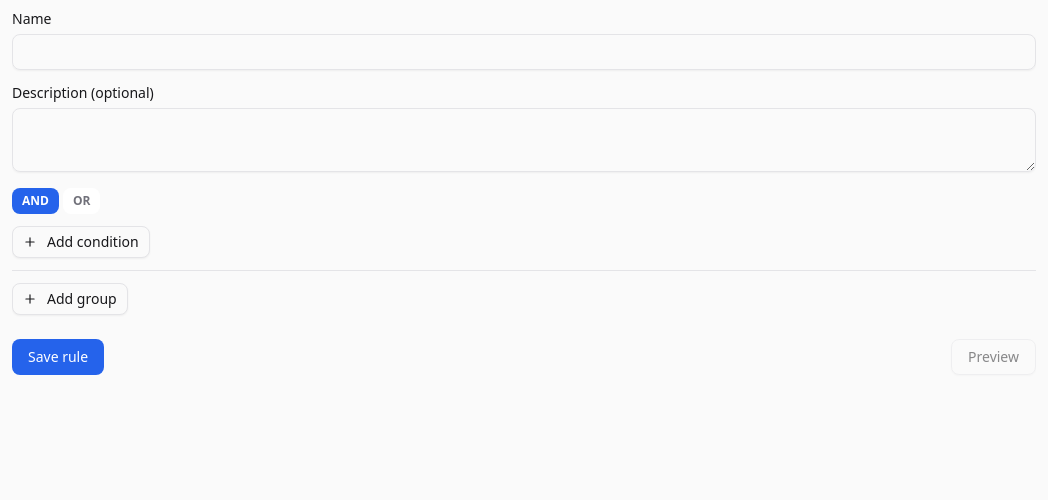
RuleEditor -- registry-driven ops › shows only the selected STRING field's own ops (including notNull)
Click the button with test id "rule-add-condition".
click(81, 242)  # box [12,226,150,258]
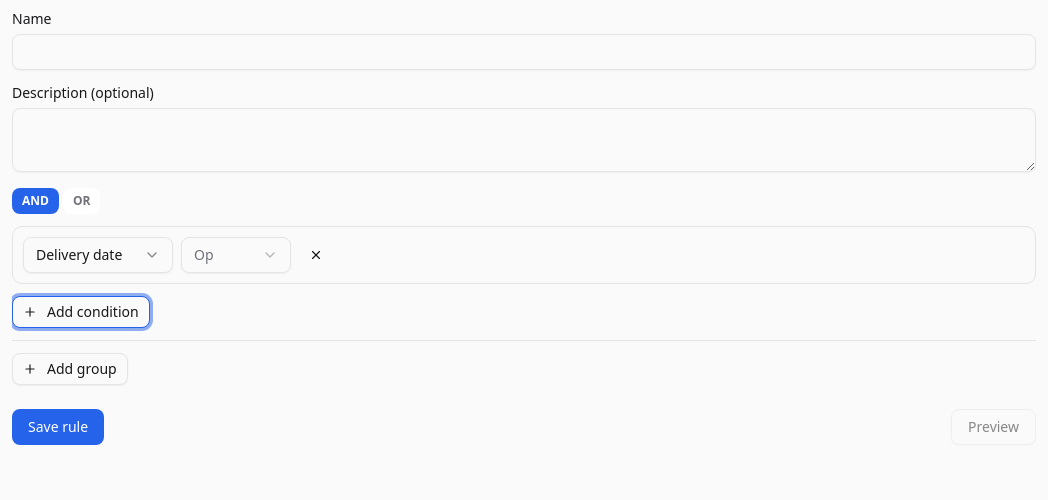
Click the dropdown with test id "rule-condition-0-field".
click(98, 255)  # box [23,237,173,273]
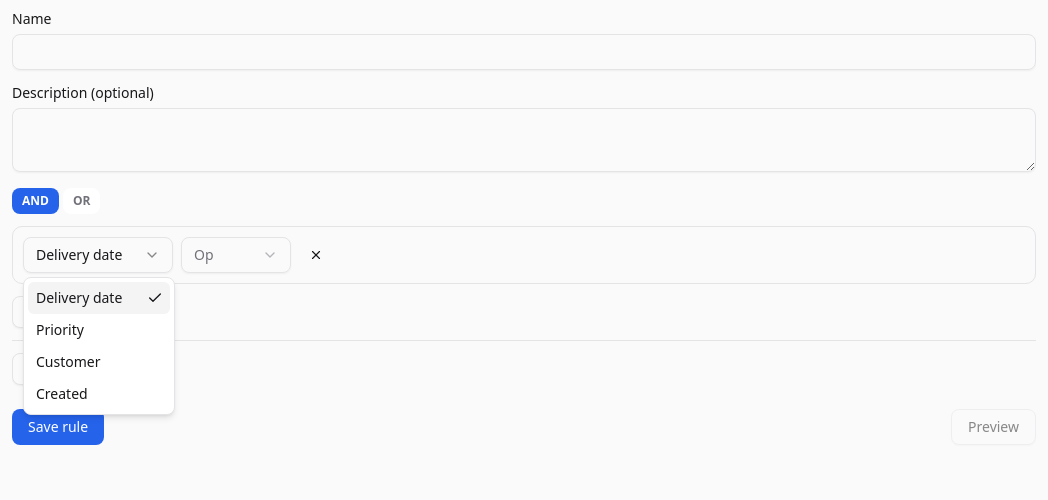
Click the option "Customer".
click(68, 362)  # box [36,352,100,371]
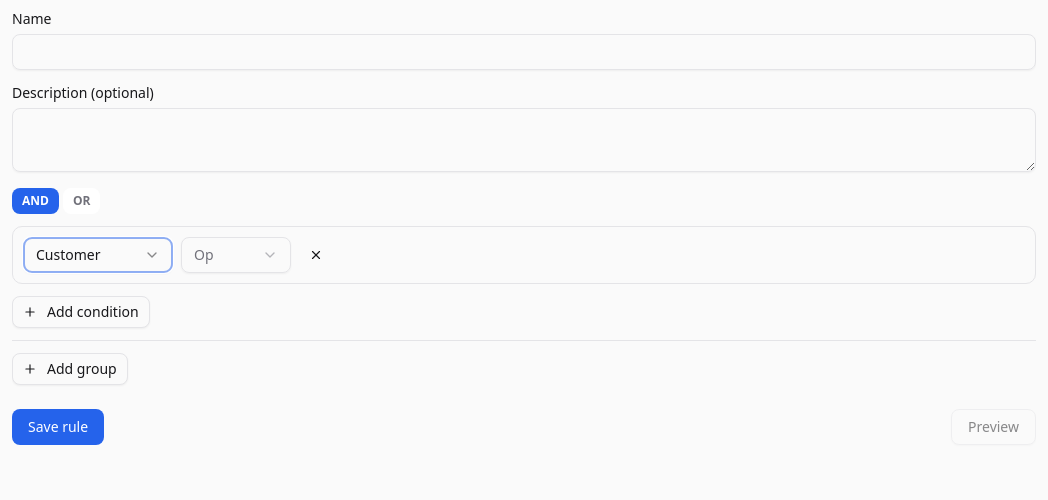
Click the dropdown with test id "rule-condition-0-op".
click(236, 255)  # box [181,237,291,273]
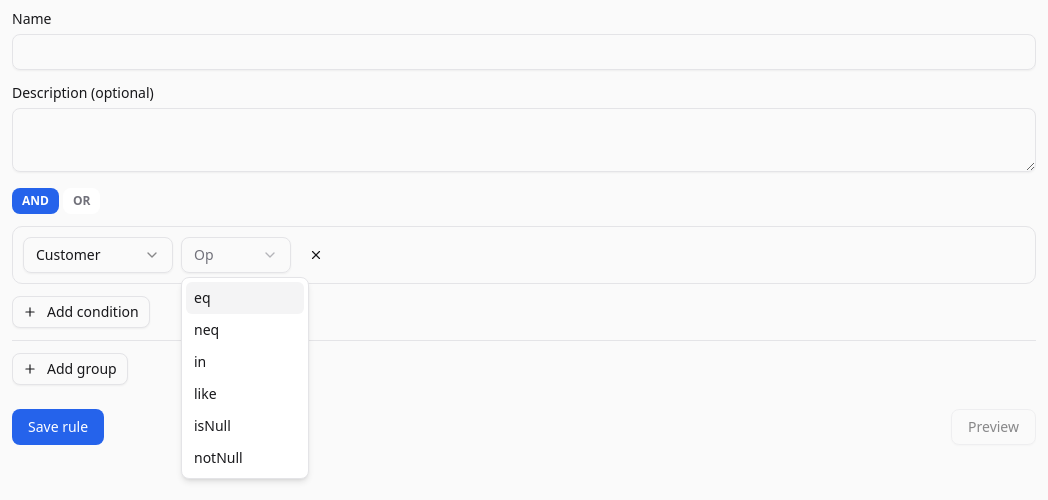
Expected: the text "in" is shown, [194,352,206,372]
Expected: the text "notNull" is shown, [194,448,243,468]
